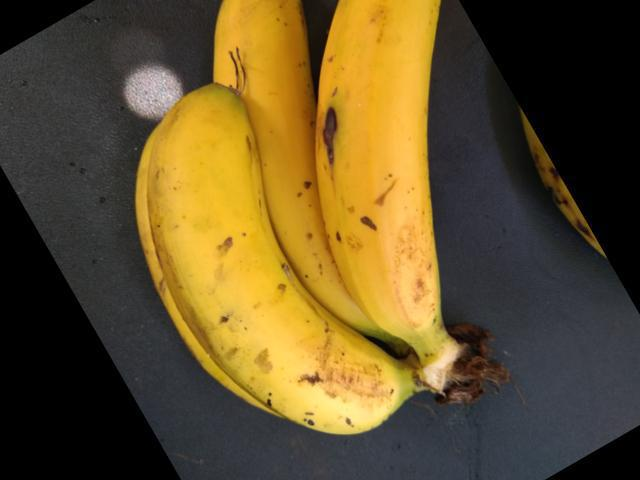ripe: (131, 88, 432, 479), (305, 0, 479, 330), (191, 0, 353, 302)
